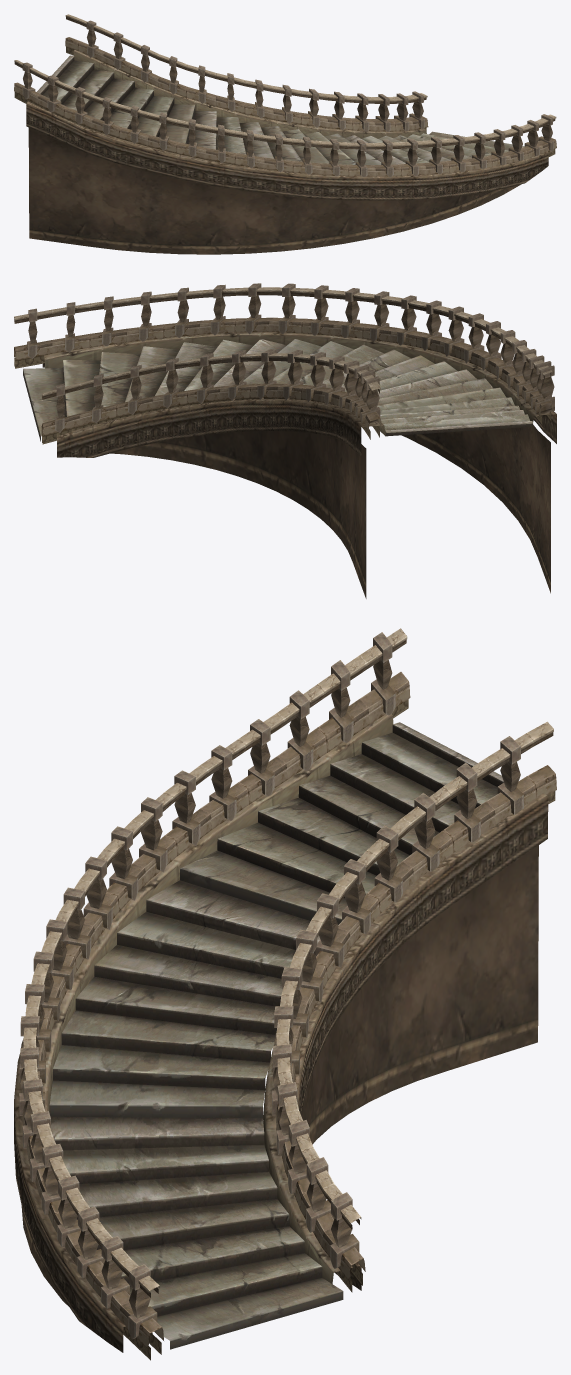
Rendered from blsd4_louti_hao.FBX.
The picture shows the model from 3 angles, top to bottom: view 1: azimuth 30°, elevation 25°; view 2: azimuth 150°, elevation 25°; view 3: azimuth 270°, elevation 25°; orthographic projection. The views are drawn at different scales.
Visible parts, largest first — view 1: blsd4_louti_a_003, blsd4_louti_b_003; view 2: blsd4_louti_a_003, blsd4_louti_b_003; view 3: blsd4_louti_a_003, blsd4_louti_b_003.
Boxes of the visible parts, box(x1,y1,x2,y2) form: blsd4_louti_a_003: box(26, 50, 548, 254); blsd4_louti_b_003: box(14, 14, 556, 176); blsd4_louti_a_003: box(23, 332, 556, 598); blsd4_louti_b_003: box(14, 283, 554, 444); blsd4_louti_a_003: box(14, 714, 548, 1352); blsd4_louti_b_003: box(19, 628, 556, 1360).
Size of the model in its own units: 1577 by 555 by 834.
